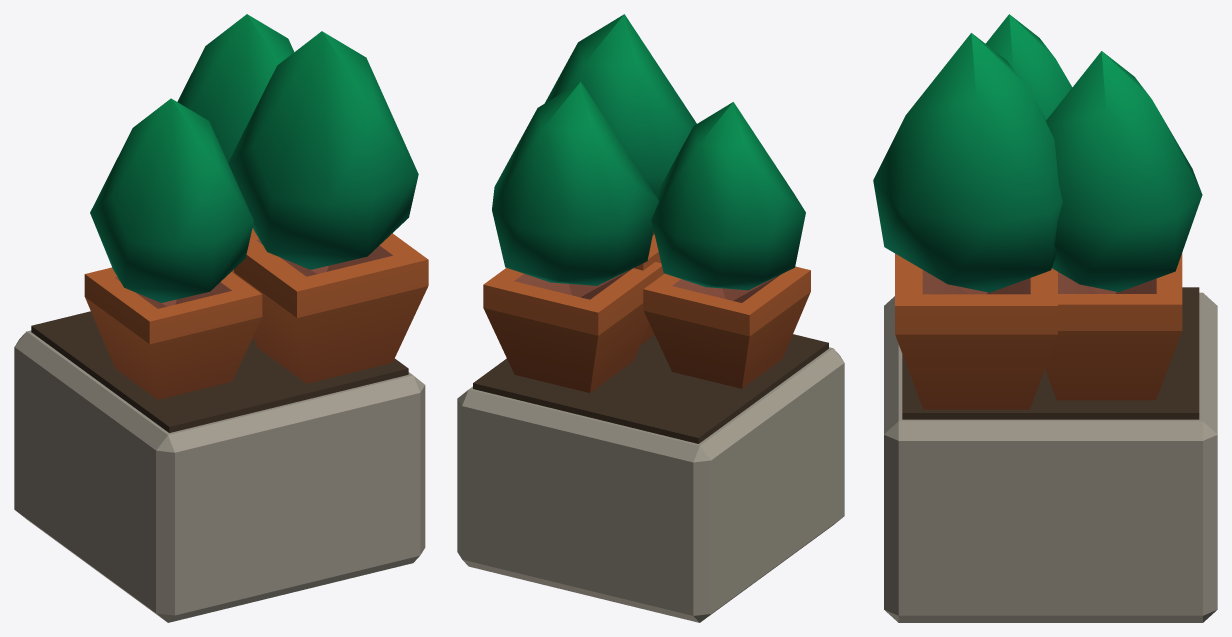
File: decor_6.fbx
3 renders of one model, left to right at view 1: azimuth 30°, elevation 25°; view 2: azimuth 150°, elevation 25°; view 3: azimuth 270°, elevation 25°, orthographic. The views are drawn at different scales.
Parts seen in each view (by area): view 1: decor_6; view 2: decor_6; view 3: decor_6.
Boxes of the visible parts, <box> form: decor_6: <box>14,14,428,622</box>; decor_6: <box>457,14,844,622</box>; decor_6: <box>873,14,1217,622</box>.
Bounding box in the file's own units: 0.9651 × 1.67 × 0.9287.
